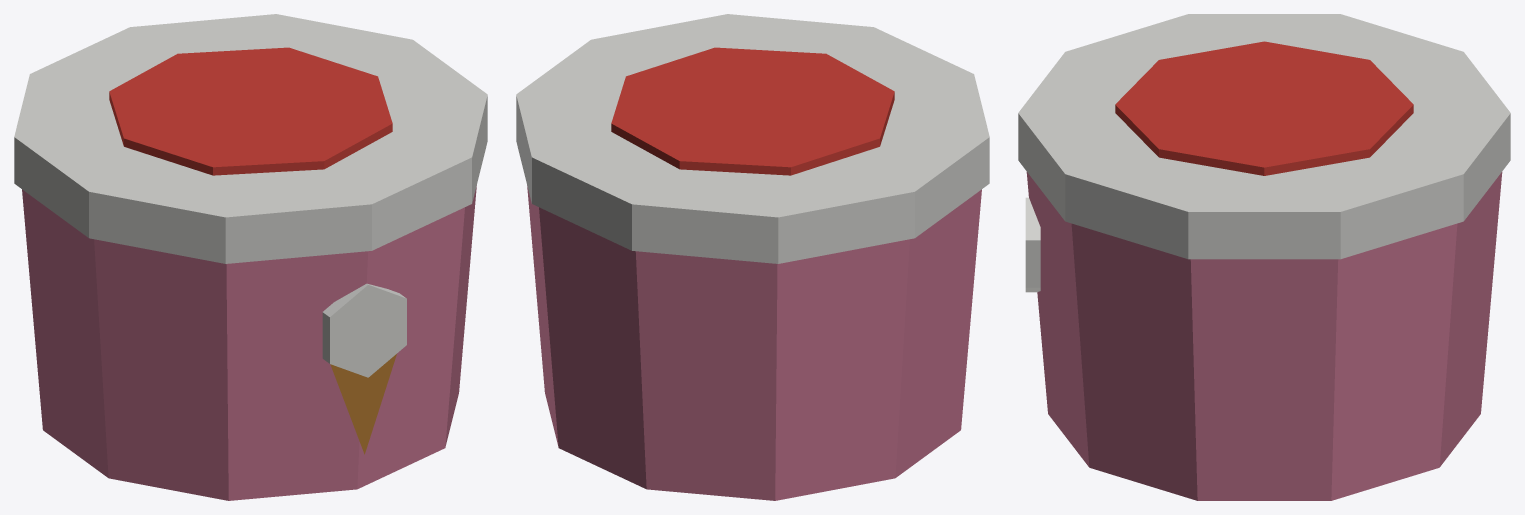
The model's file is hh_kem.glb.
3 renders of one model, left to right at view 1: azimuth 30°, elevation 25°; view 2: azimuth 150°, elevation 25°; view 3: azimuth 270°, elevation 25°, orthographic.
Parts seen in each view (by area): view 1: hh_kem; view 2: hh_kem; view 3: hh_kem.
Part boxes in pixels (x1,y1,x2,y2): hh_kem: (14, 14, 487, 500); hh_kem: (516, 14, 989, 500); hh_kem: (1018, 14, 1510, 500).
Size of the model in its own units: 0.1255 by 0.0915 by 0.132.
